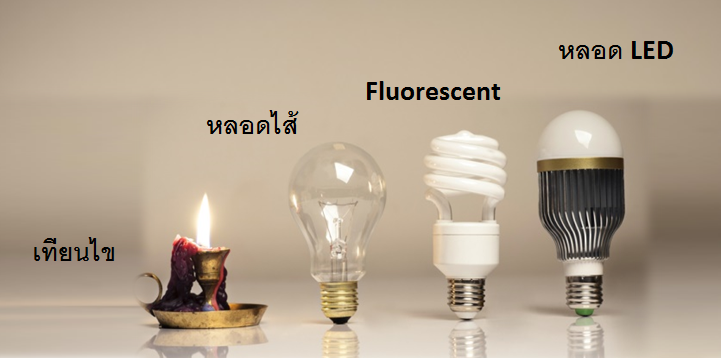Light_bulb: (534, 105, 643, 336), (279, 129, 385, 343), (415, 121, 511, 330)
